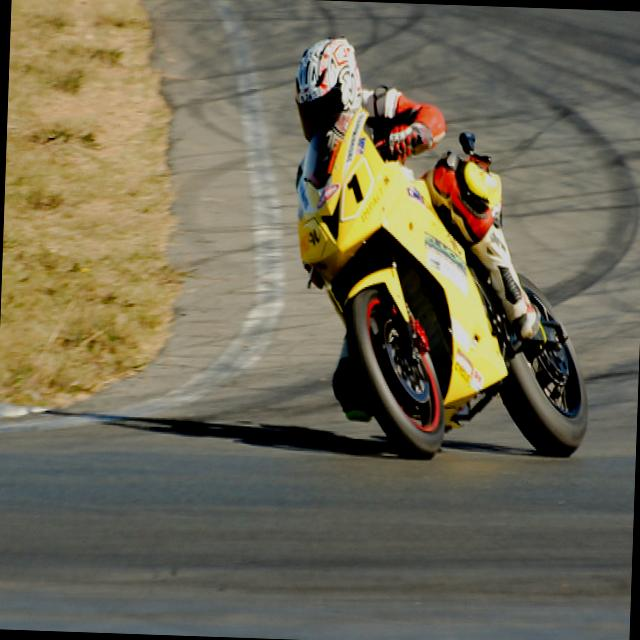Vehicle: (290, 108, 594, 464)
